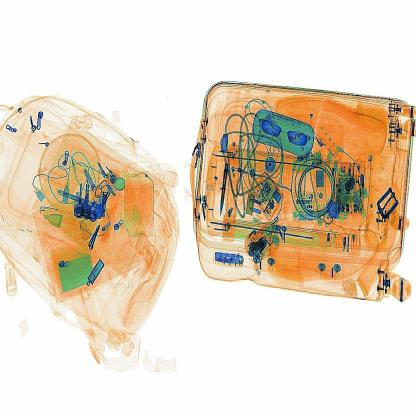gun: (214, 143, 235, 215)
